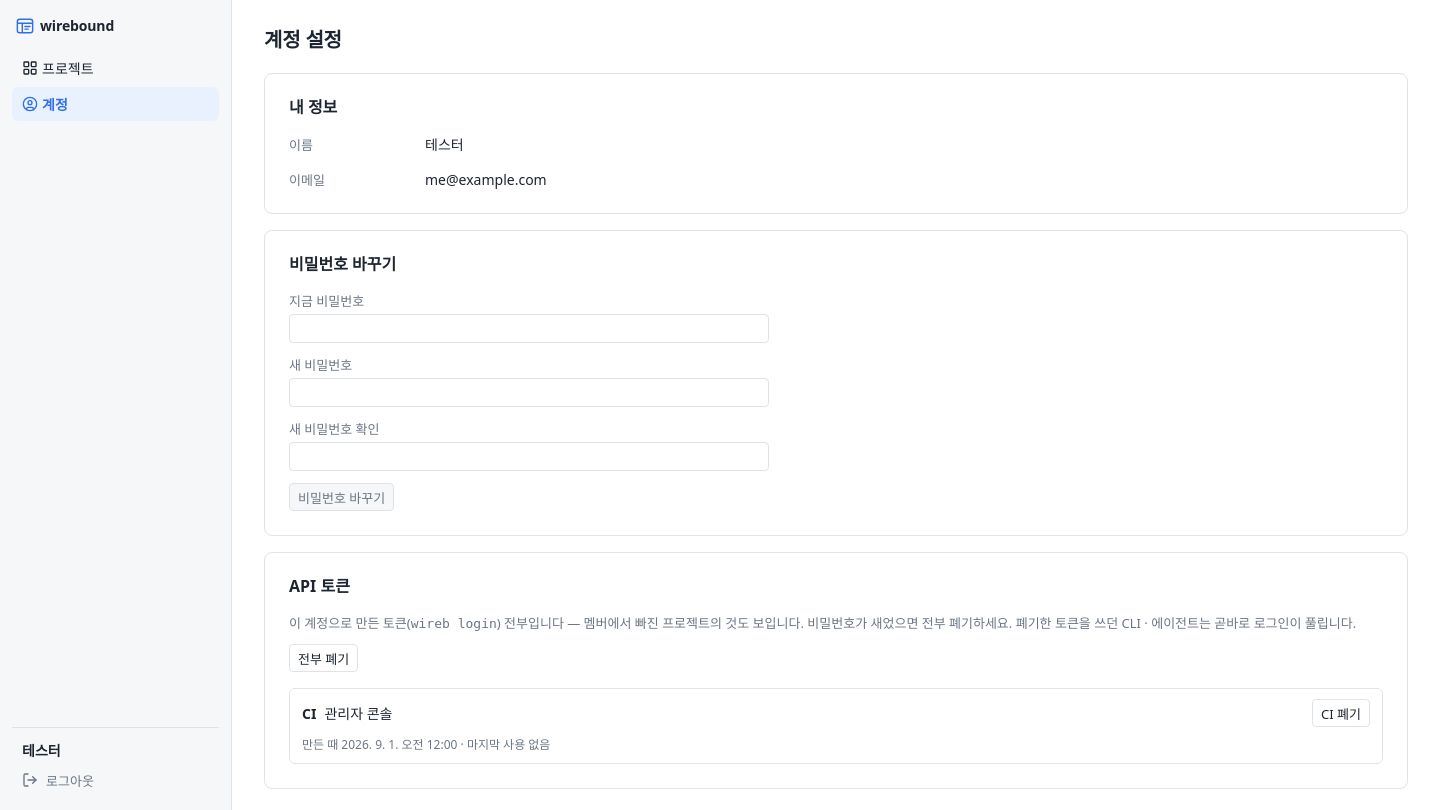
Test: API 토큰 절 › 폐기가 실패하면 서버 문장을 그리고 목록은 그대로다
The image size is (1440, 810).
Click the button "전부 폐기" at (324, 658), box [289,644,358,672]
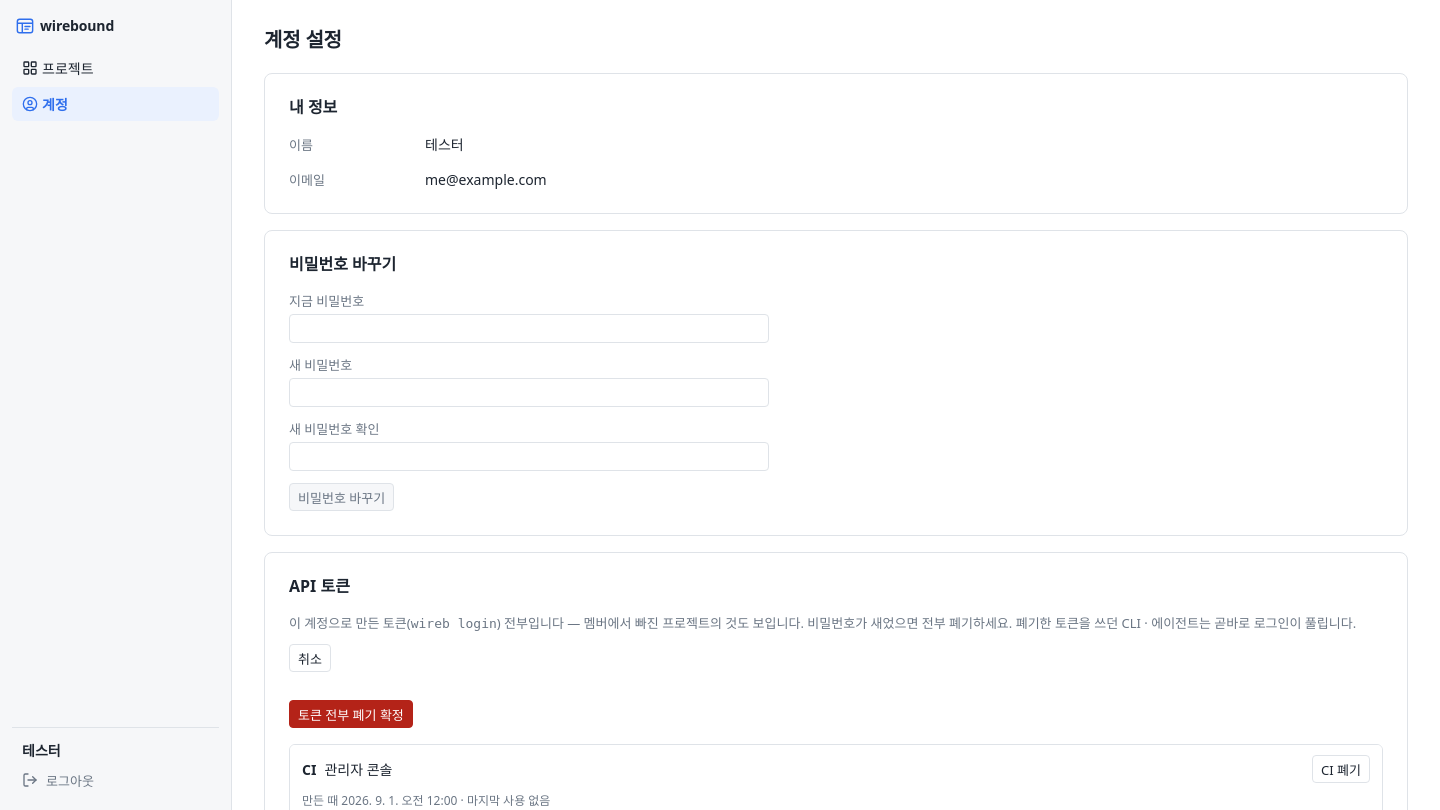
Click the button "토큰 전부 폐기 확정" at (351, 714), box [289,700,413,728]
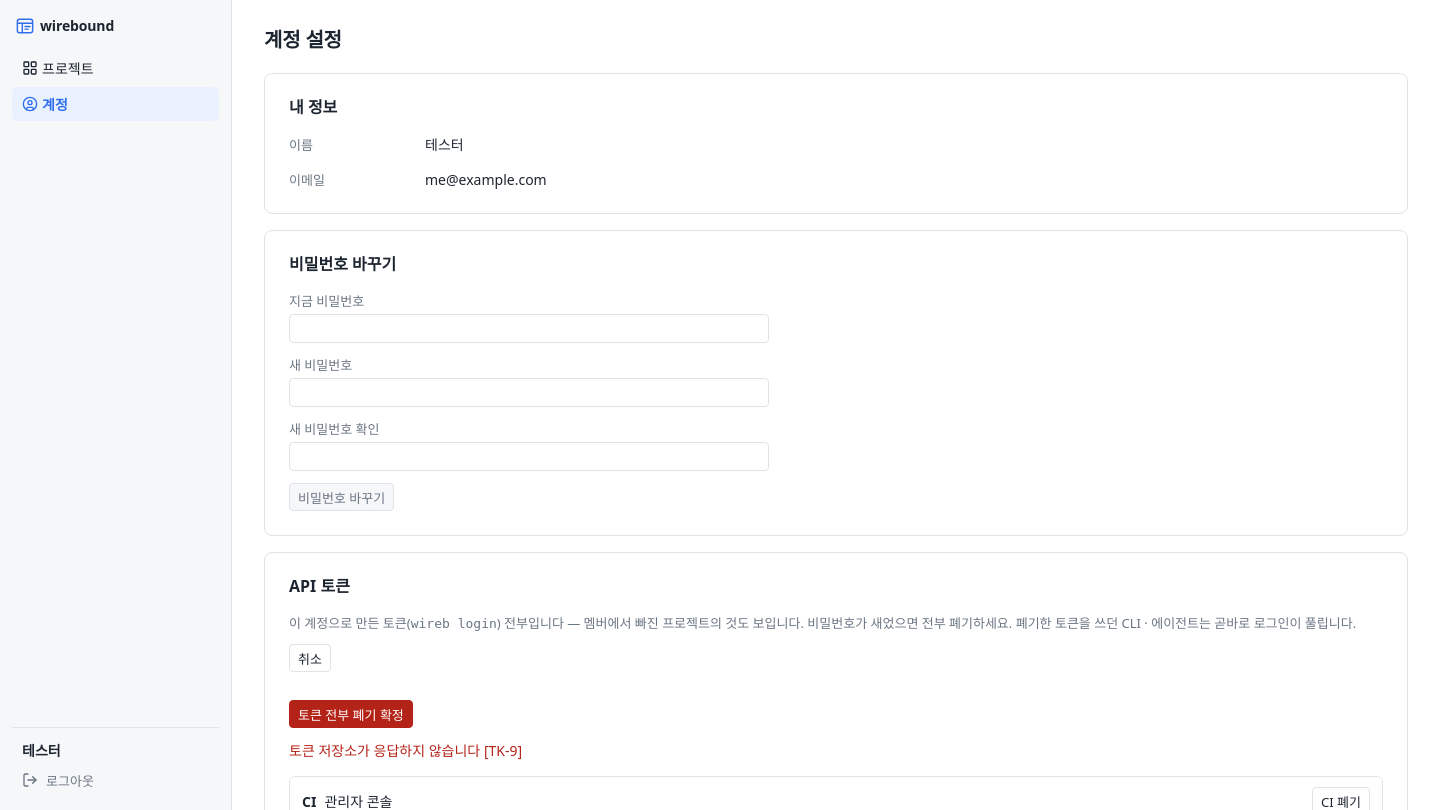
Expected: the text "CI" is shown, [302,792,316,809]
Result: the message reads "토큰 저장소가 응답하지 않습니다 [TK-9]" at [289,741,522,760]
